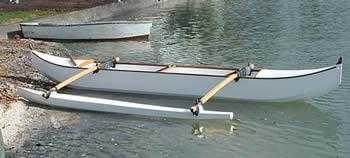kayak: (14, 56, 342, 109), (17, 80, 236, 123), (20, 20, 153, 41), (24, 49, 98, 84)
